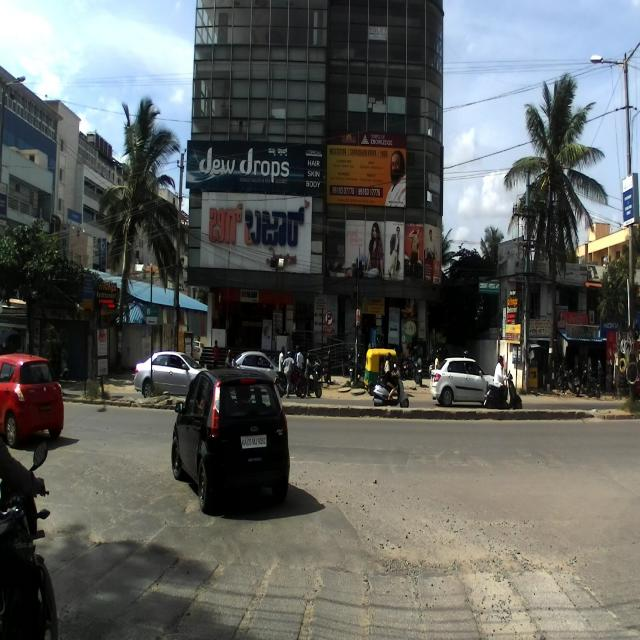car: (170, 368, 290, 514), (0, 351, 64, 439), (430, 355, 498, 405)
motorcycle: (0, 442, 64, 637)
